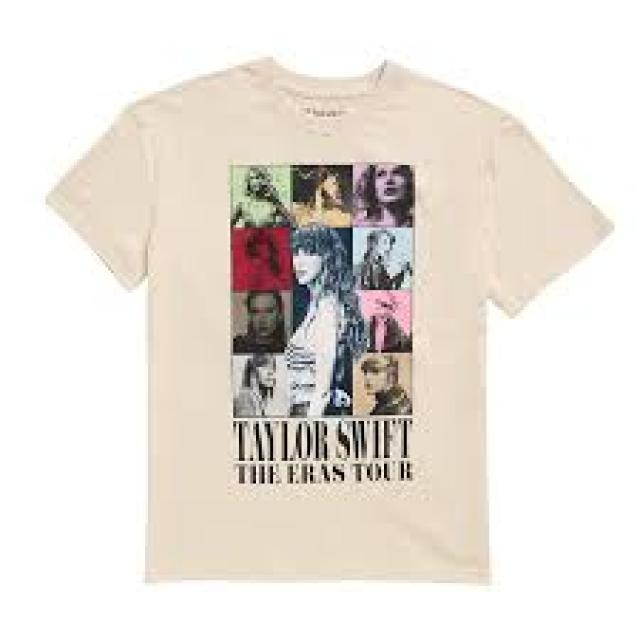shirt: (47, 57, 612, 581)
